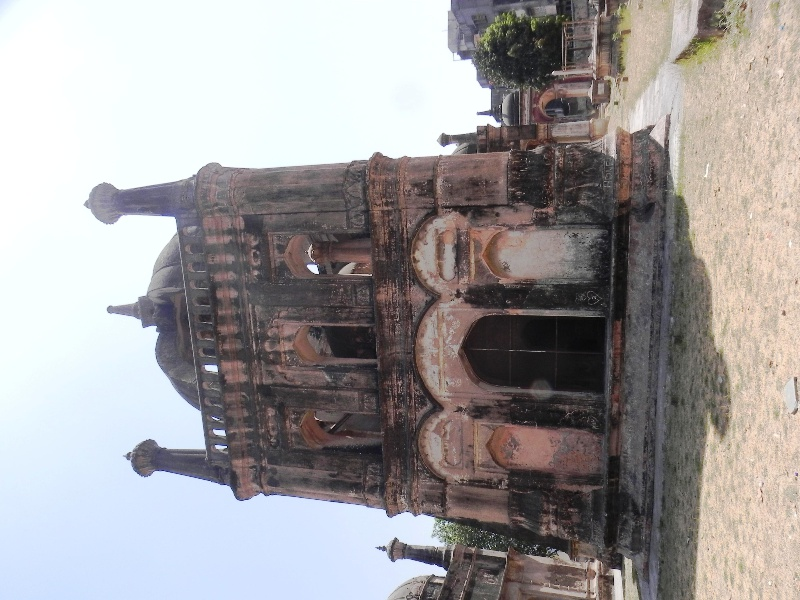Spalling: (502, 255, 515, 273)
